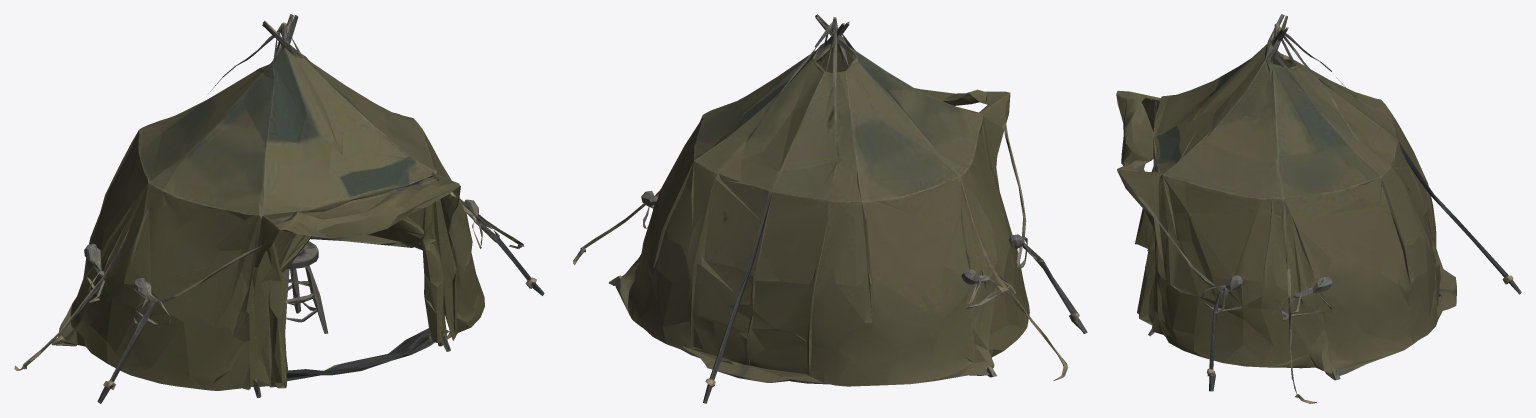
File: deco_tente.glb
3 views of the same model, side by side, from view 1: azimuth 30°, elevation 25°; view 2: azimuth 150°, elevation 25°; view 3: azimuth 270°, elevation 25° (orthographic). The views are drawn at different scales.
Size of the model in its own units: 1.9 by 1.11 by 1.47.
Materials: 1 (1 with a texture image).
